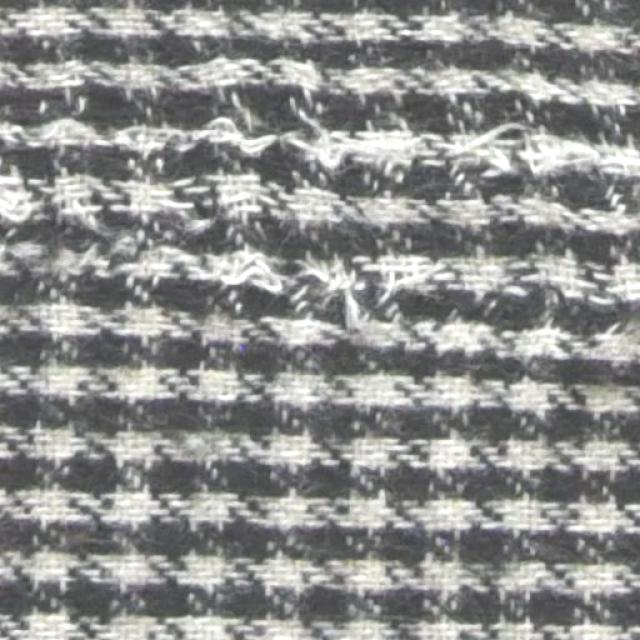Snag: (0, 53, 639, 349)
